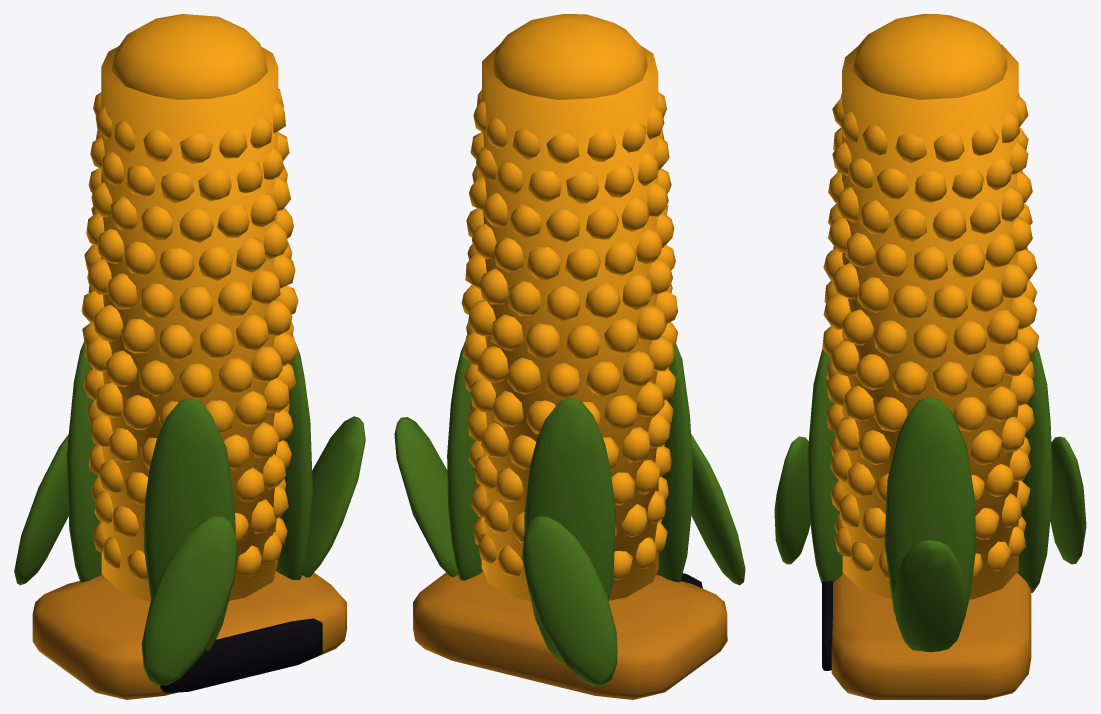
File: ItsCornCob.fbx
3 views of the same model, side by side, from view 1: azimuth 30°, elevation 25°; view 2: azimuth 150°, elevation 25°; view 3: azimuth 270°, elevation 25° (orthographic).
Visible parts, largest first — view 1: ItsCornCob; view 2: ItsCornCob; view 3: ItsCornCob.
Part boxes in pixels (x1,y1,x2,y2): ItsCornCob: (14, 14, 365, 699); ItsCornCob: (394, 14, 745, 699); ItsCornCob: (774, 14, 1086, 699).
Size of the model in its own units: 1.87 by 3.74 by 1.7.
1 material, 1 textured.
